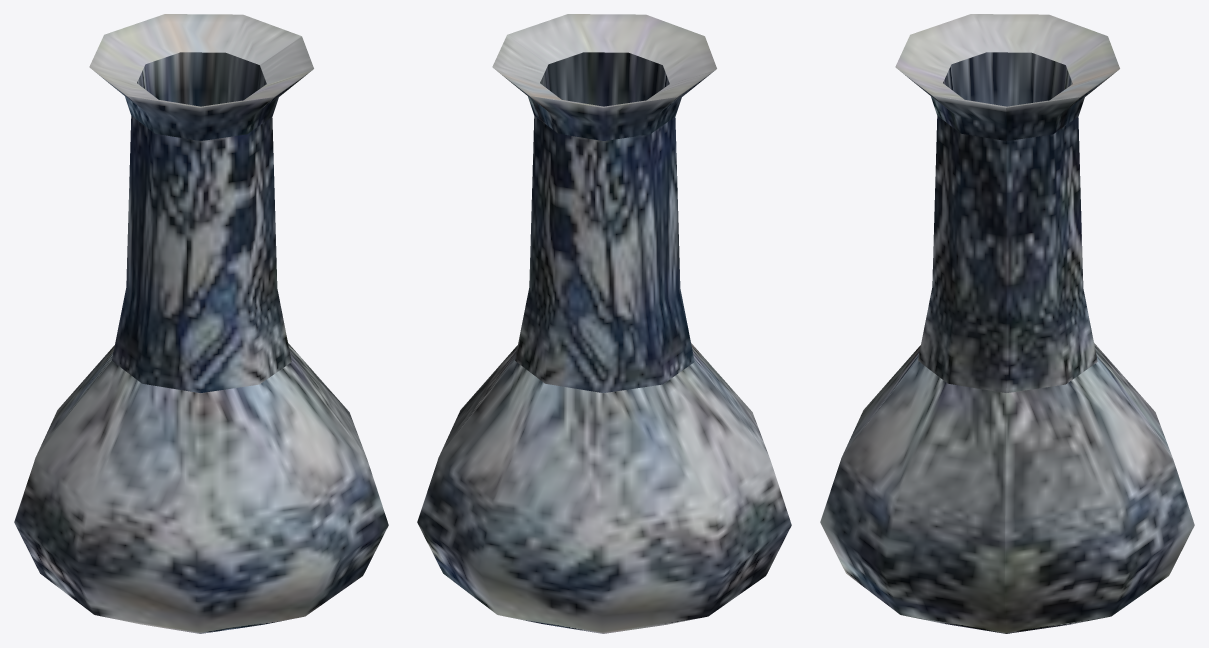
The picture shows the model from 3 angles, left to right: view 1: azimuth 30°, elevation 25°; view 2: azimuth 150°, elevation 25°; view 3: azimuth 270°, elevation 25°; orthographic projection.
Parts seen in each view (by area): view 1: Li03; view 2: Li03; view 3: Li03.
Boxes of the visible parts, box(x1,y1,x2,y2) form: Li03: box(14, 14, 388, 633); Li03: box(417, 14, 791, 633); Li03: box(820, 14, 1194, 633).
Bounding box in the file's own units: 3.97 × 6.32 × 4.02.
